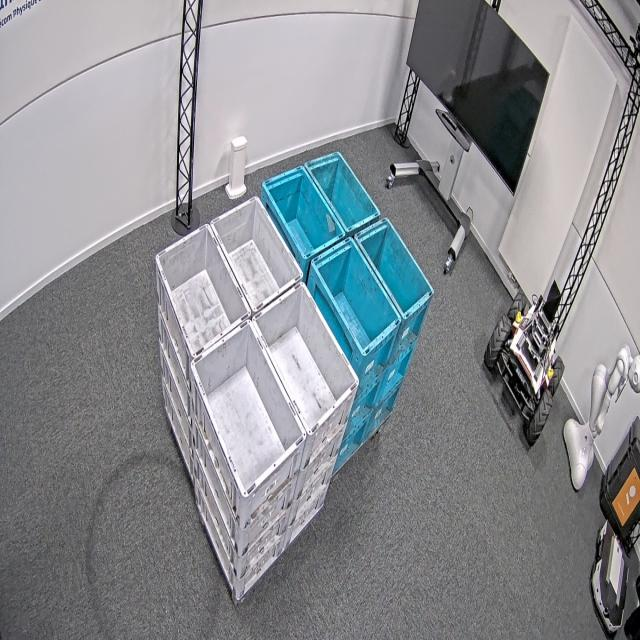Roll8G: (190, 278, 360, 498), (156, 194, 303, 360)
RollB8: (311, 216, 435, 359), (262, 148, 382, 262)
